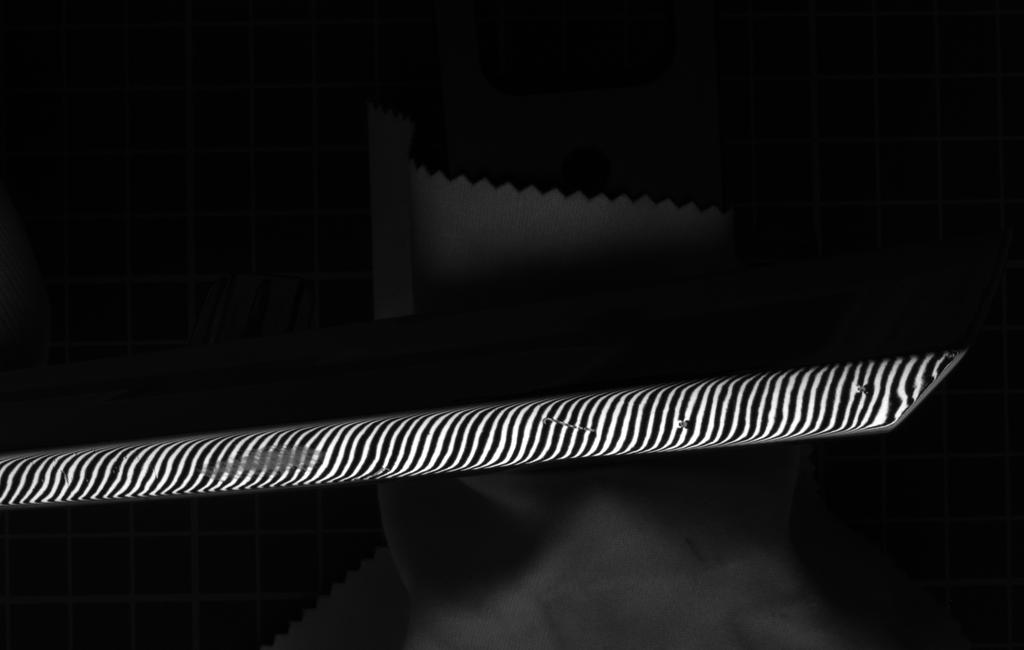Pierced: (855, 382, 879, 401), (673, 417, 697, 433)
Pitting: (195, 440, 323, 485)
Scratch: (535, 413, 609, 439)
